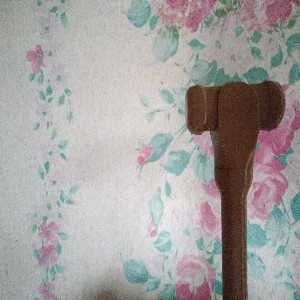palu: (185, 78, 286, 300)
